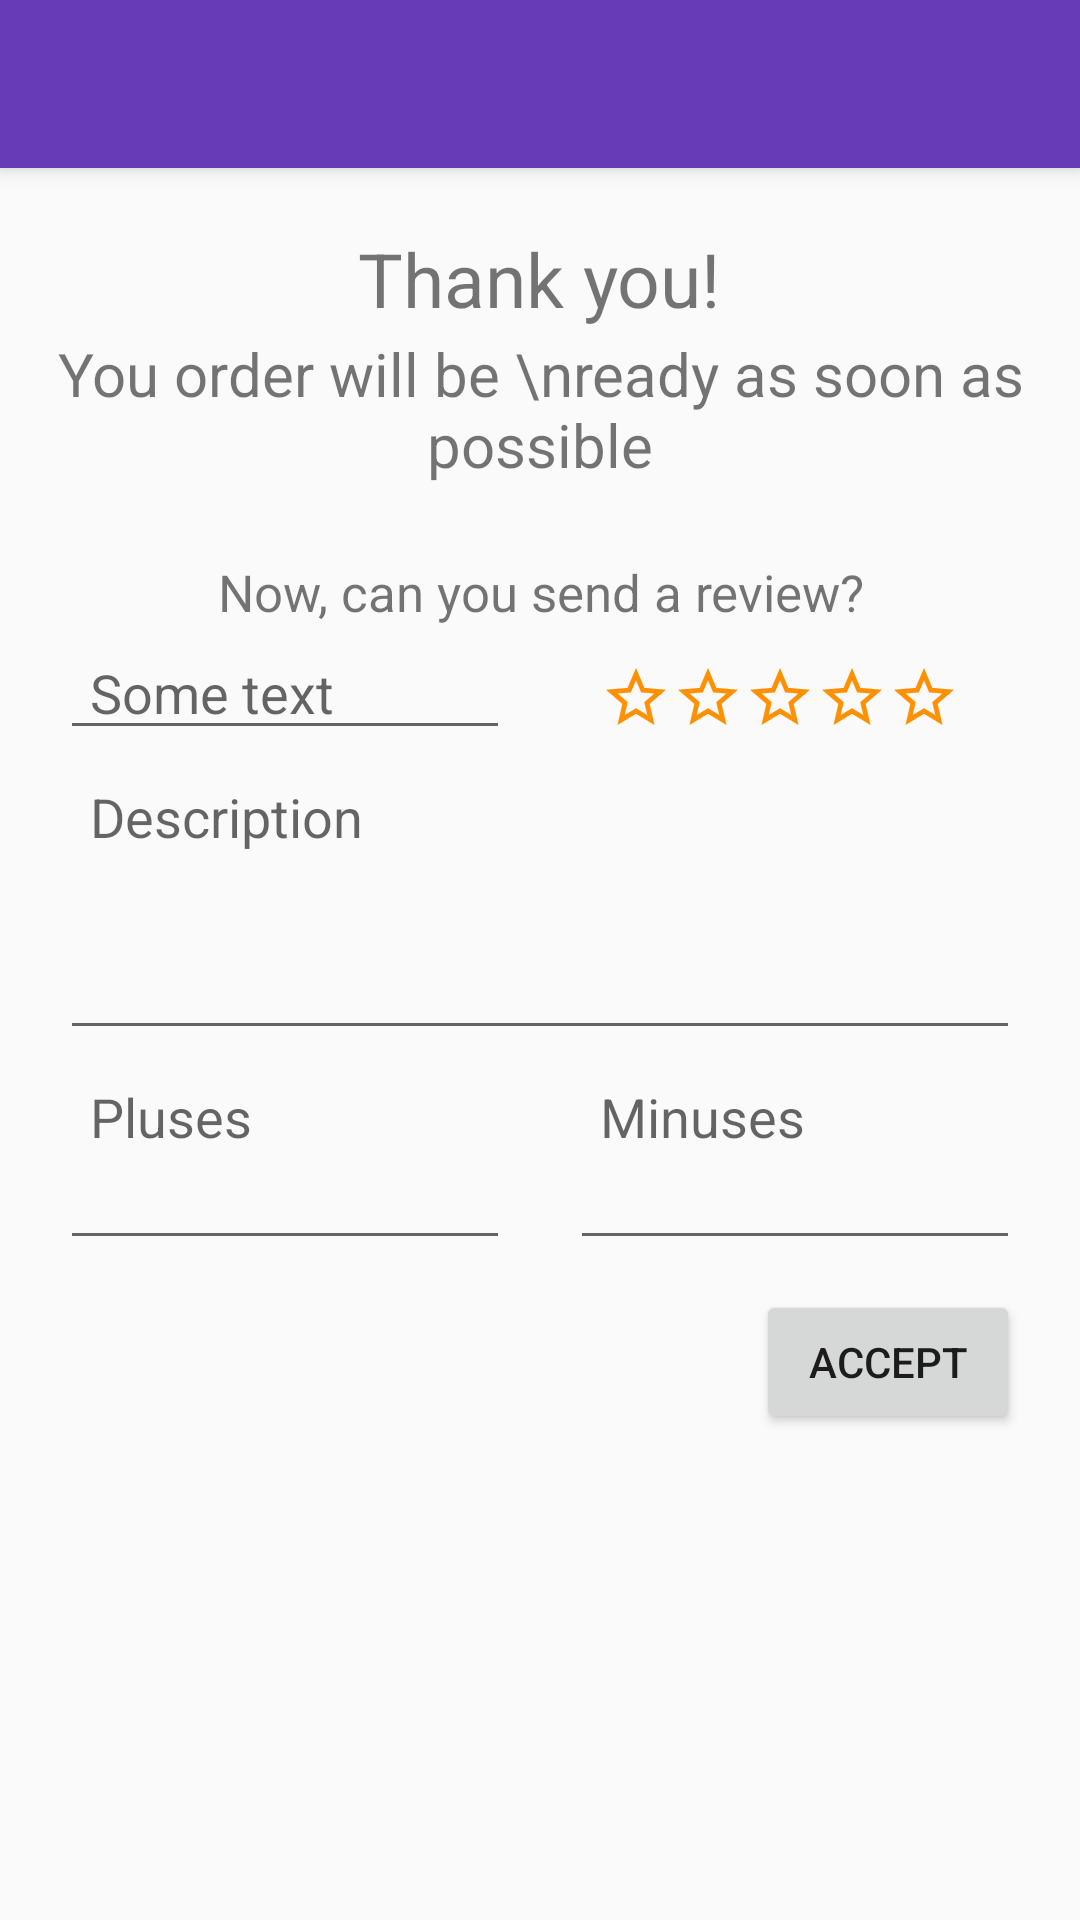

Icon click points for this 1080w x 1920h phone screenshot, format [x,y]:
star empty: [636,696], [708,696], [780,696], [852,696], [924,696]
